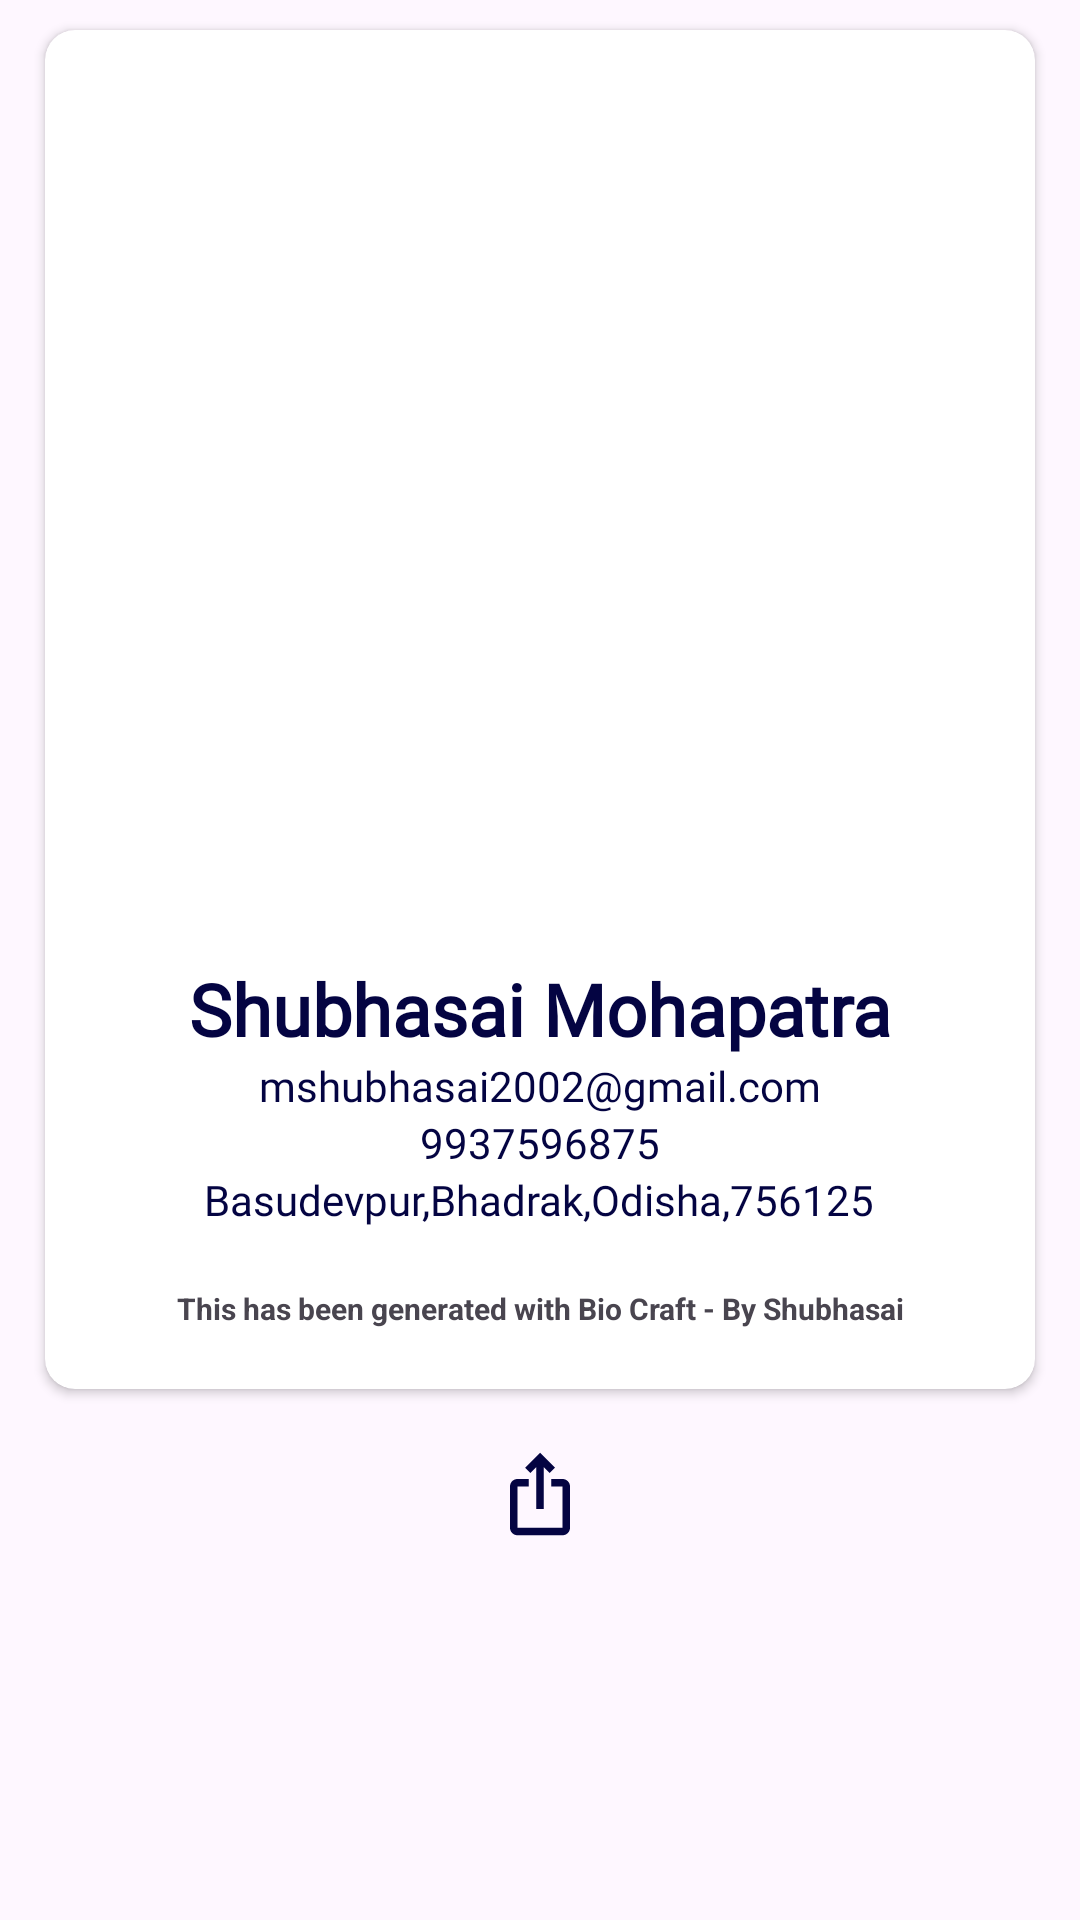

Locate icon controls on the screen. Image size 1080px x 1920px, boxes as rect(x1, y1, x2, y2).
share: rect(510, 1453, 570, 1536)
